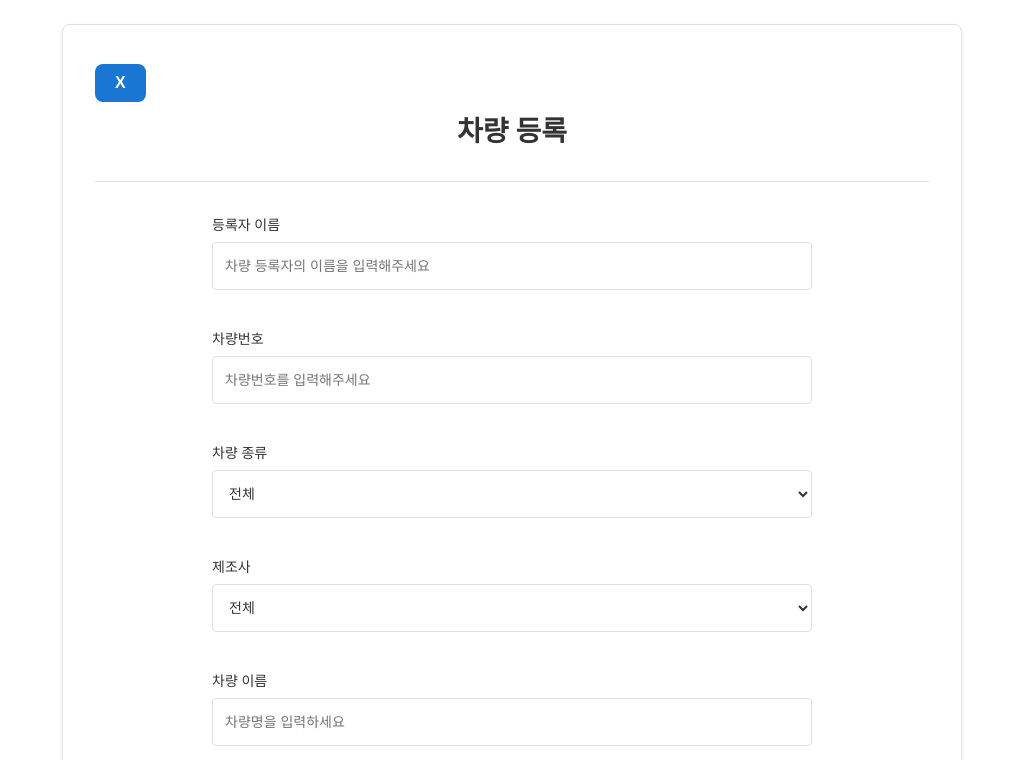
Test: Registration 컴포넌트 › 정상적으로 차량 등록 시 성공 메시지 표시
In the field with placeholder "차량 등록자의 이름을 입력해주세요": [512, 266] box [212, 242, 812, 290], type "홍길동"
In the field with placeholder "차량번호를 입력해주세요": [512, 380] box [212, 356, 812, 404], type "12가3456"
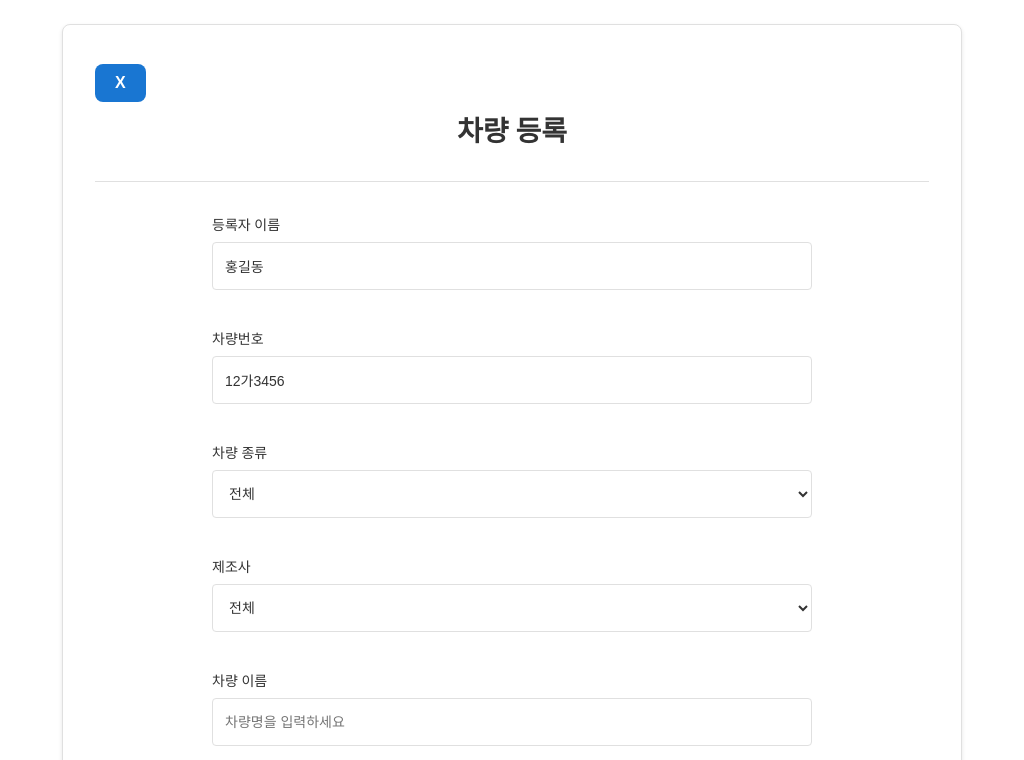
Select "소형" in the dropdown labelled "차량 종류": [512, 494] box [212, 470, 812, 518]
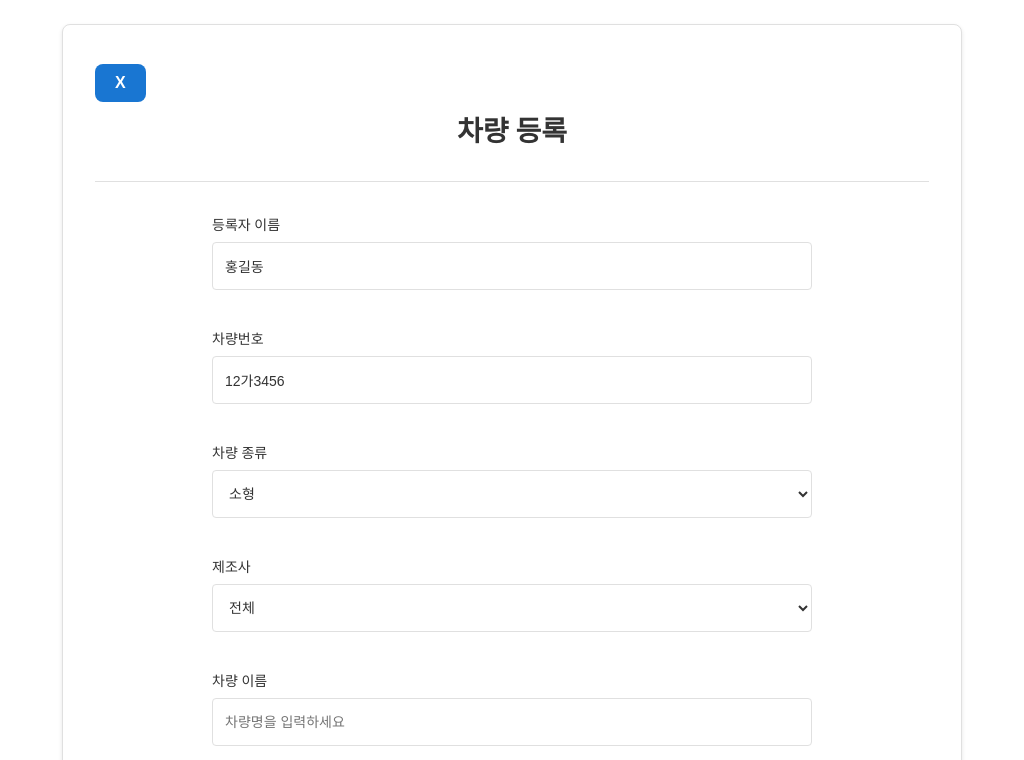
Select "현대" in the dropdown labelled "제조사": [512, 608] box [212, 584, 812, 632]
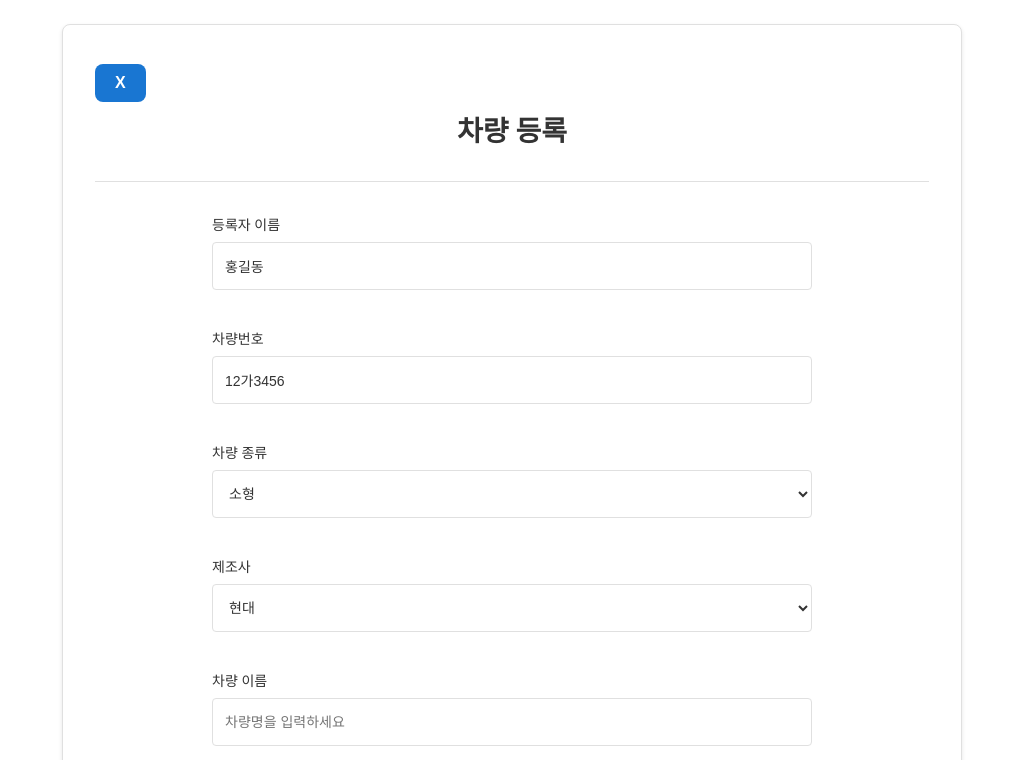
In the field with placeholder "차량명을 입력하세요": [512, 722] box [212, 698, 812, 746], type "아반떼"
(page scrolled)
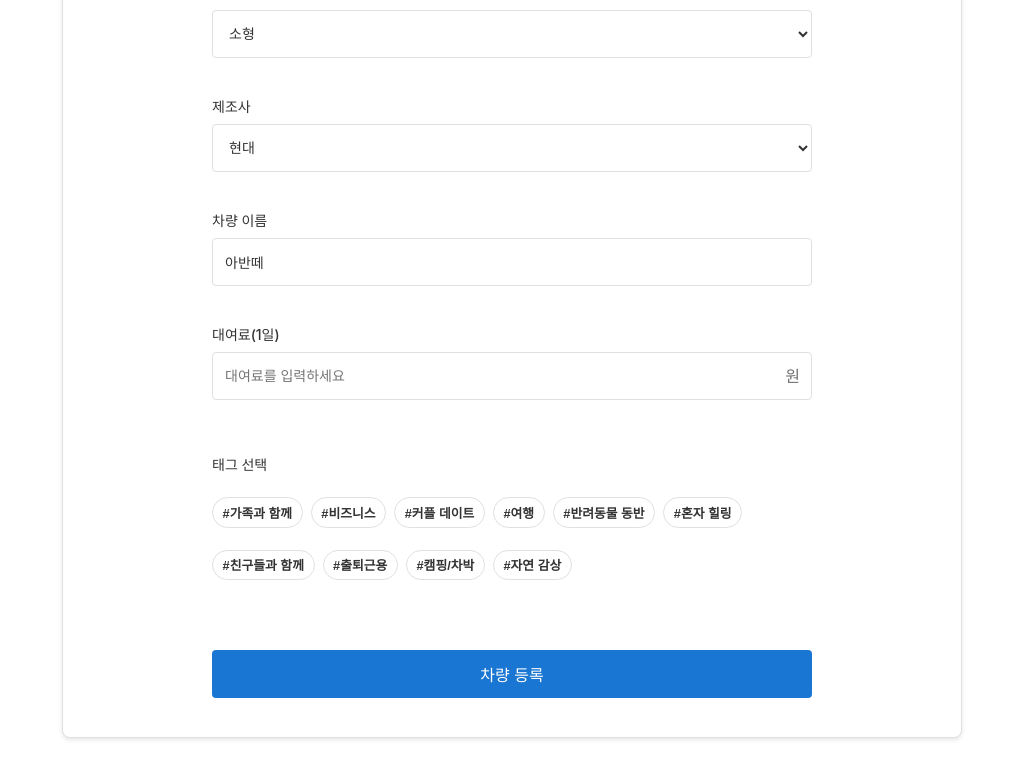
In the field with placeholder "대여료를 입력하세요": [512, 376] box [212, 352, 812, 400], type "10000"
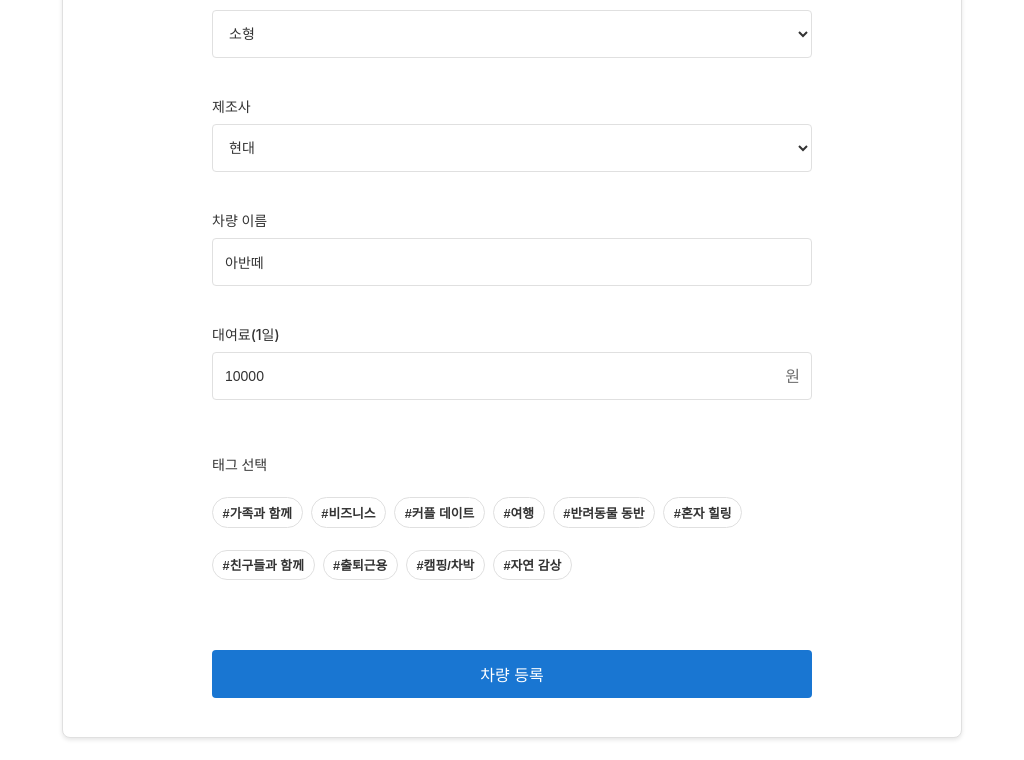
Click the button "차량 등록": [512, 674] box [212, 650, 812, 698]
(page scrolled)
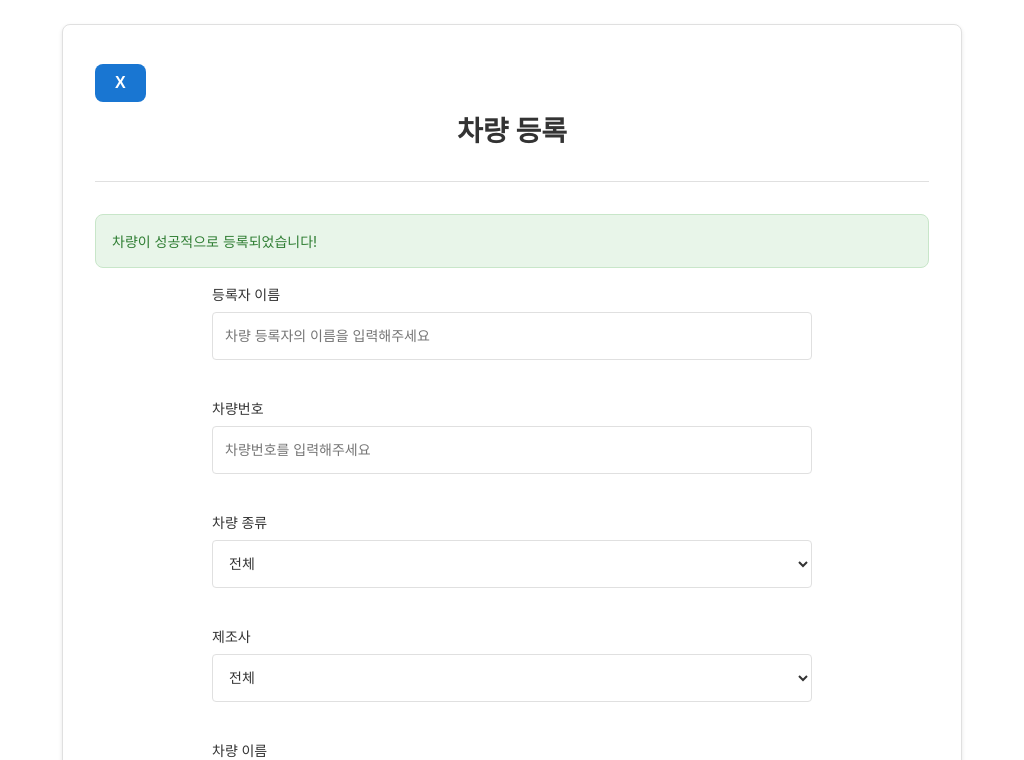
Result: the text "차량이 성공적으로 등록되었습니다!" is shown at [95, 214, 929, 268]
